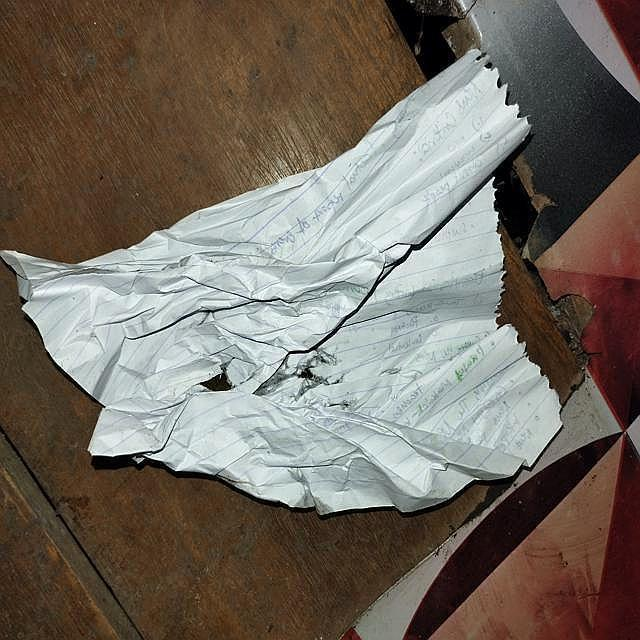Biodegradable: (5, 51, 559, 515)
